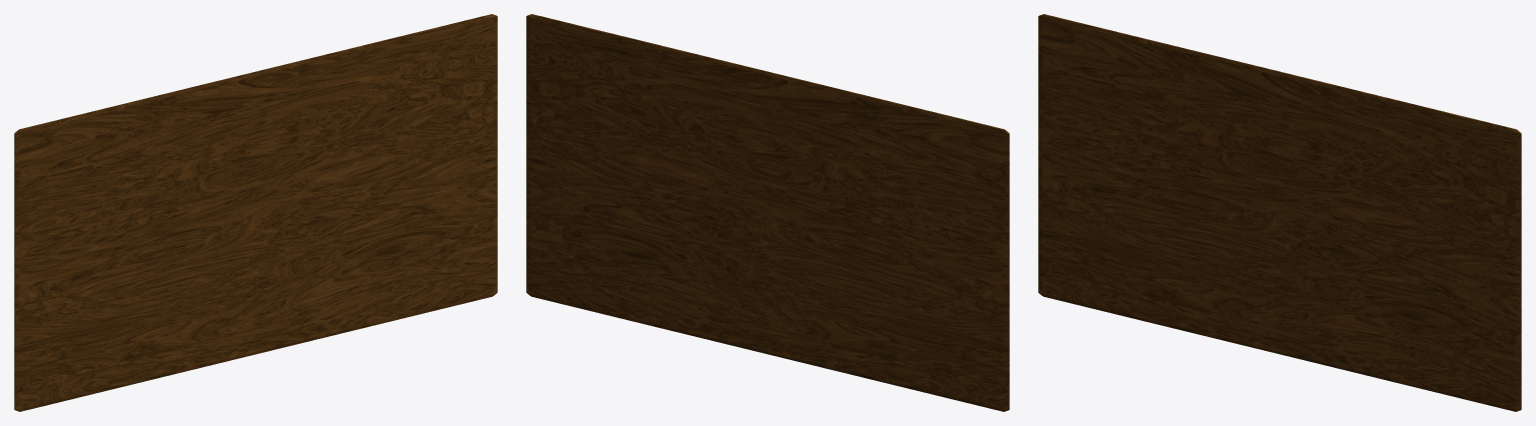
The model's file is Drevo zed.fbx.
The picture shows the model from 3 angles, left to right: view 1: azimuth 30°, elevation 25°; view 2: azimuth 150°, elevation 25°; view 3: azimuth 330°, elevation 25°; orthographic projection.
Visible parts, largest first — view 1: Plane.011; view 2: Plane.011; view 3: Plane.011.
Boxes of the visible parts, <box> form: Plane.011: <box>14,14,497,411</box>; Plane.011: <box>526,14,1009,411</box>; Plane.011: <box>1038,14,1521,411</box>.
Size of the model in its own units: 1082 by 604 by 5.65.
